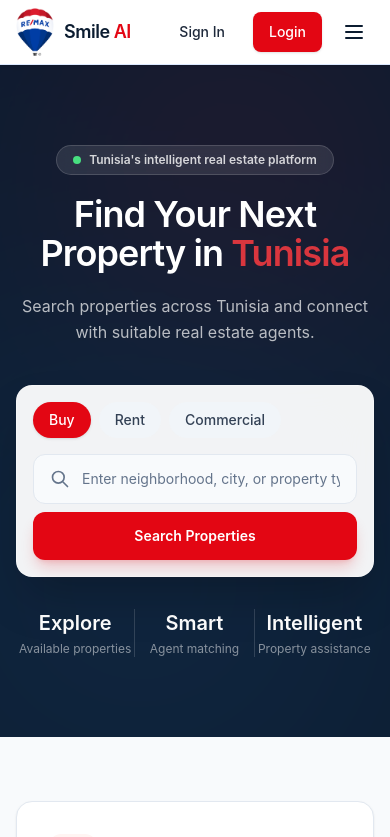
Test: LandingPage › renders navigation links with valid routes and toggles mobile menu
This screenshot has width=390, height=837.
Click the button named "Toggle navigation menu".
click(354, 32)  # box [334,12,374,52]
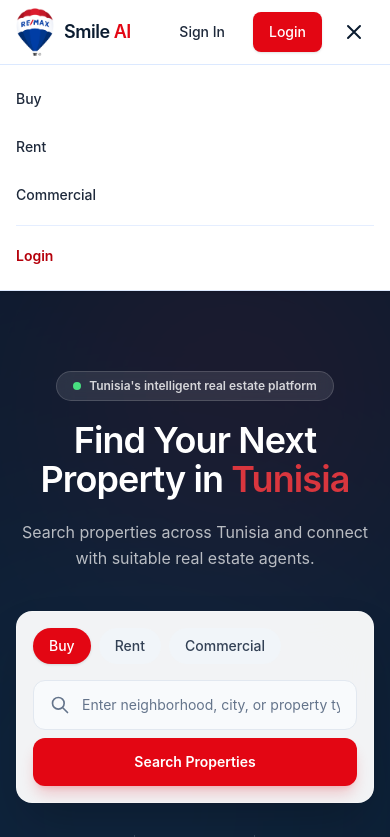
Expected: the button named "Toggle navigation menu" is expanded, [334,12,374,52]
Expected: the element with test id "mobile-nav-menu" is shown, [0,64,389,290]
